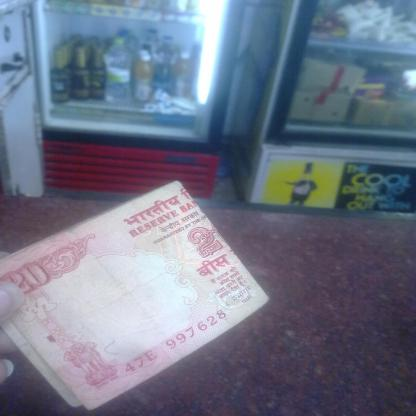Old20Front: (3, 189, 244, 392)
